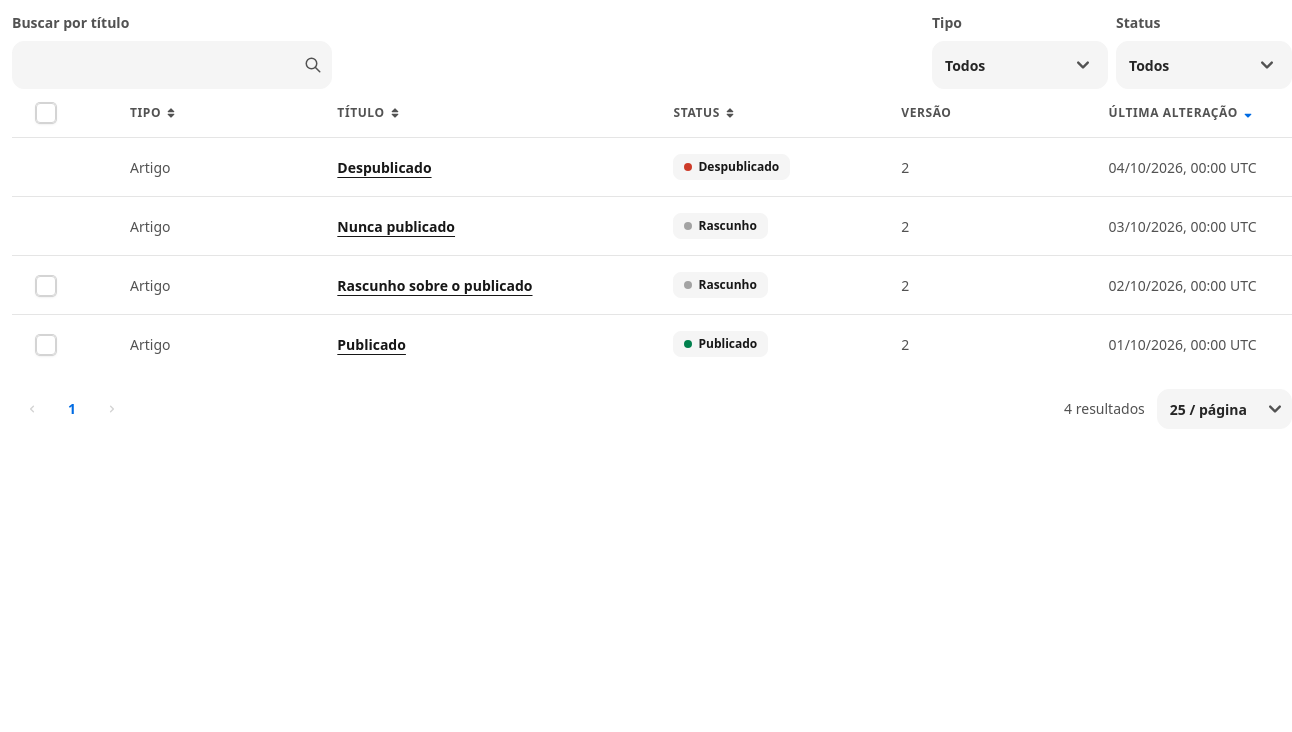
Test: despublicar em massa (#495) › "Selecionar todas" marca só os no ar; a barra diz quantos
Click the checkbox named "Selecionar todas as linhas".
click(46, 113)  # box [36,103,56,123]
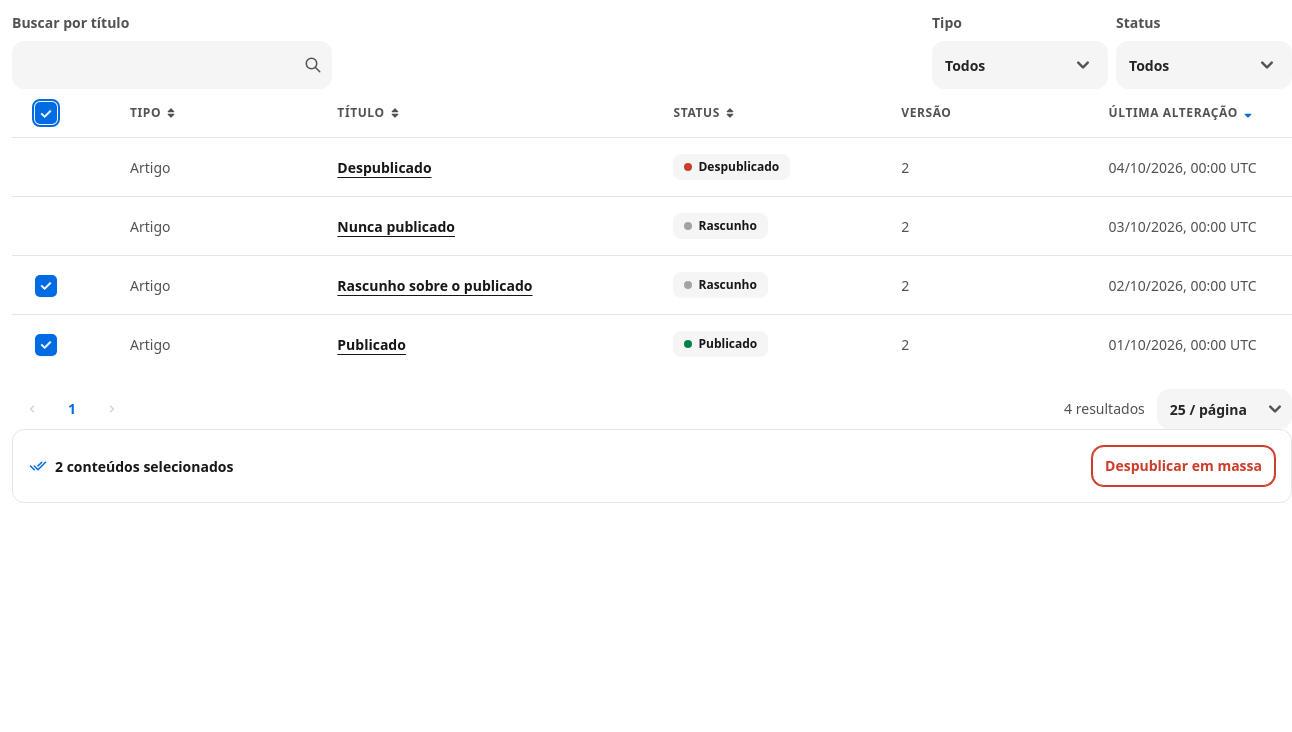
Check: the text "2 conteúdos selecionados" is shown, box [55,456,233,476]
Click the checkbox named "Selecionar Publicado".
click(46, 345)  # box [36,335,56,355]
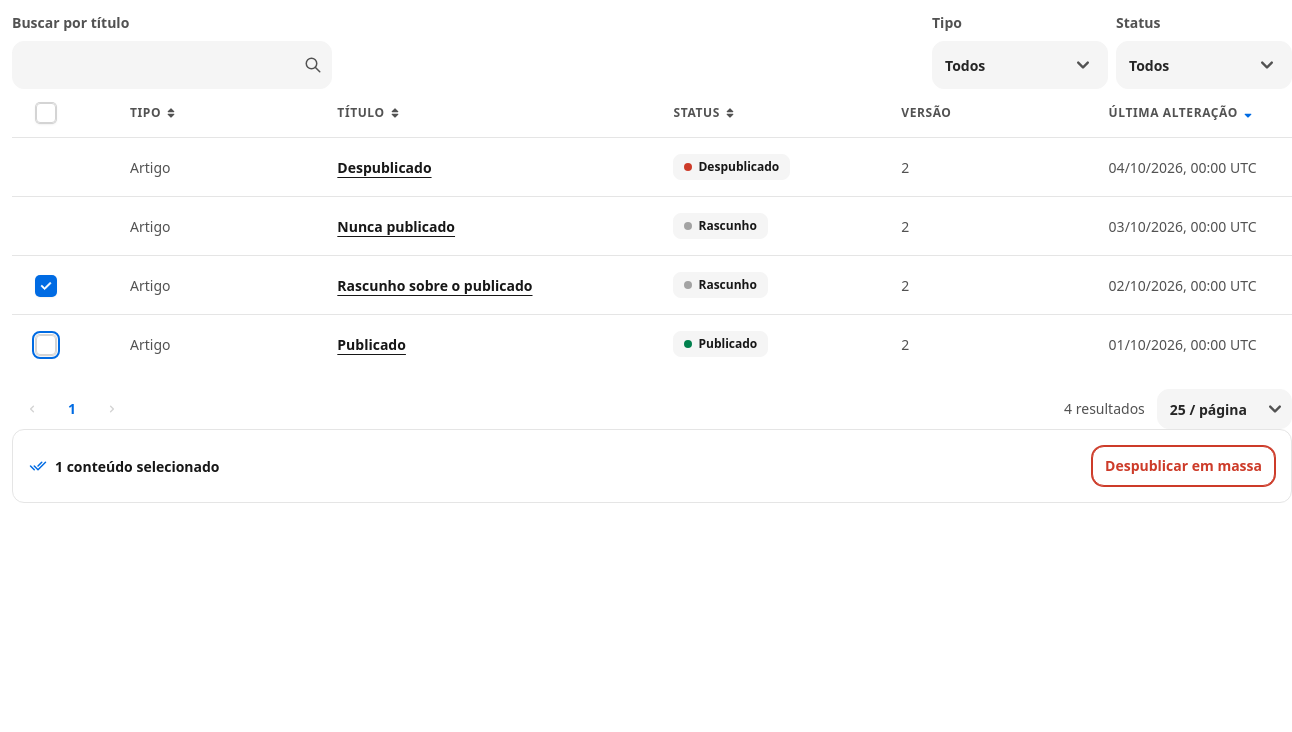
Check: the text "1 conteúdo selecionado" is shown, box [55,456,220,476]
